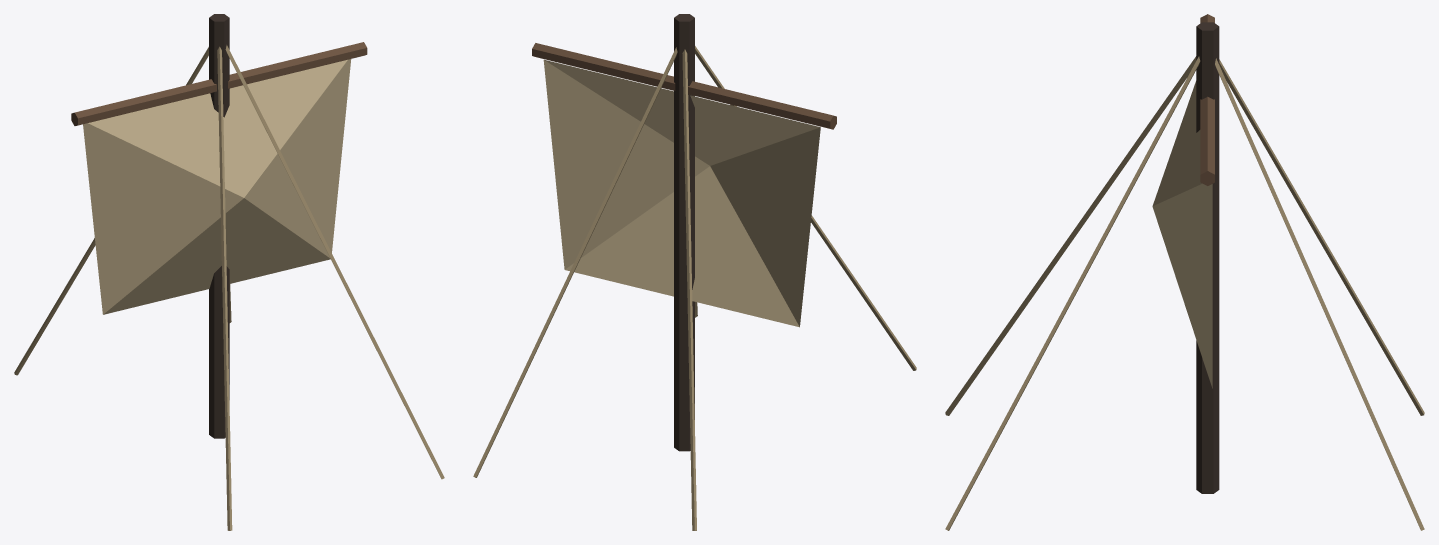
Rendered from mast_sail.glb.
3 views of the same model, side by side, from view 1: azimuth 30°, elevation 25°; view 2: azimuth 150°, elevation 25°; view 3: azimuth 270°, elevation 25° (orthographic). The views are drawn at different scales.
Visible parts, largest first — view 1: billowed canvas sail, mast, yard, standing rigging.001, standing rigging.003, standing rigging; view 2: billowed canvas sail, mast, yard, standing rigging, standing rigging.002, standing rigging.001; view 3: billowed canvas sail, mast, standing rigging.003, standing rigging.001, standing rigging.002, standing rigging, yard.
Part boxes in pixels (x1,y1,x2,y2): billowed canvas sail: (83, 59, 351, 314); mast: (209, 14, 229, 438); yard: (71, 42, 367, 125); standing rigging.001: (217, 46, 232, 530); standing rigging.003: (225, 45, 444, 479); standing rigging: (14, 47, 208, 375); billowed canvas sail: (543, 59, 820, 327); mast: (674, 14, 694, 451); yard: (532, 43, 836, 129); standing rigging: (682, 49, 696, 530); standing rigging.002: (473, 47, 677, 477); standing rigging.001: (695, 46, 916, 370); billowed canvas sail: (1152, 81, 1212, 388); mast: (1196, 22, 1219, 493); standing rigging.003: (945, 56, 1200, 530); standing rigging.001: (945, 56, 1196, 415); standing rigging.002: (1215, 58, 1424, 530); standing rigging: (1219, 59, 1424, 415); yard: (1200, 14, 1214, 185).
Bounding box in the file's own units: 1.14 × 1.57 × 1.47.
